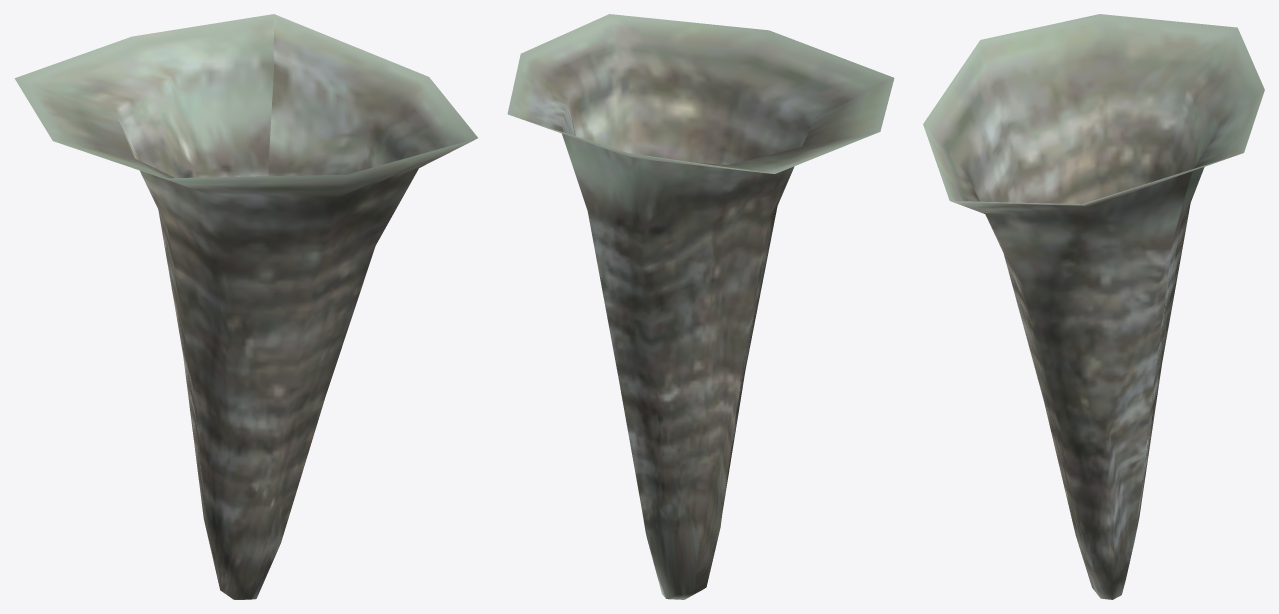
The model's file is TROLLHOLE02_PS-UPPERSTALAG18.fbx.
3 views of the same model, side by side, from view 1: azimuth 30°, elevation 25°; view 2: azimuth 150°, elevation 25°; view 3: azimuth 270°, elevation 25° (orthographic). The views are drawn at different scales.
Parts seen in each view (by area): view 1: TROLLHOLE02_PS-UPPERSTALAG18; view 2: TROLLHOLE02_PS-UPPERSTALAG18; view 3: TROLLHOLE02_PS-UPPERSTALAG18.
Boxes of the visible parts, box(x1,y1,x2,y2) form: TROLLHOLE02_PS-UPPERSTALAG18: box(14, 14, 477, 599); TROLLHOLE02_PS-UPPERSTALAG18: box(507, 14, 894, 599); TROLLHOLE02_PS-UPPERSTALAG18: box(923, 14, 1264, 599).
Bounding box in the file's own units: 14882 × 19794 × 12482.
1 material, 1 textured.
